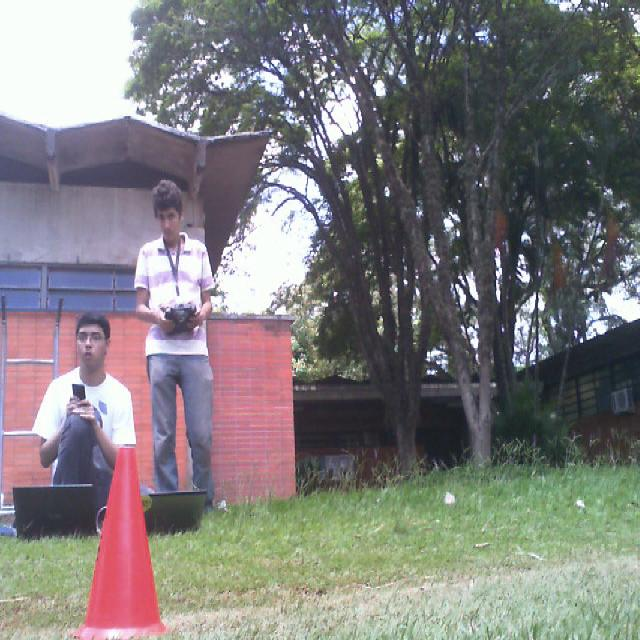cone: (70, 448, 173, 640)
